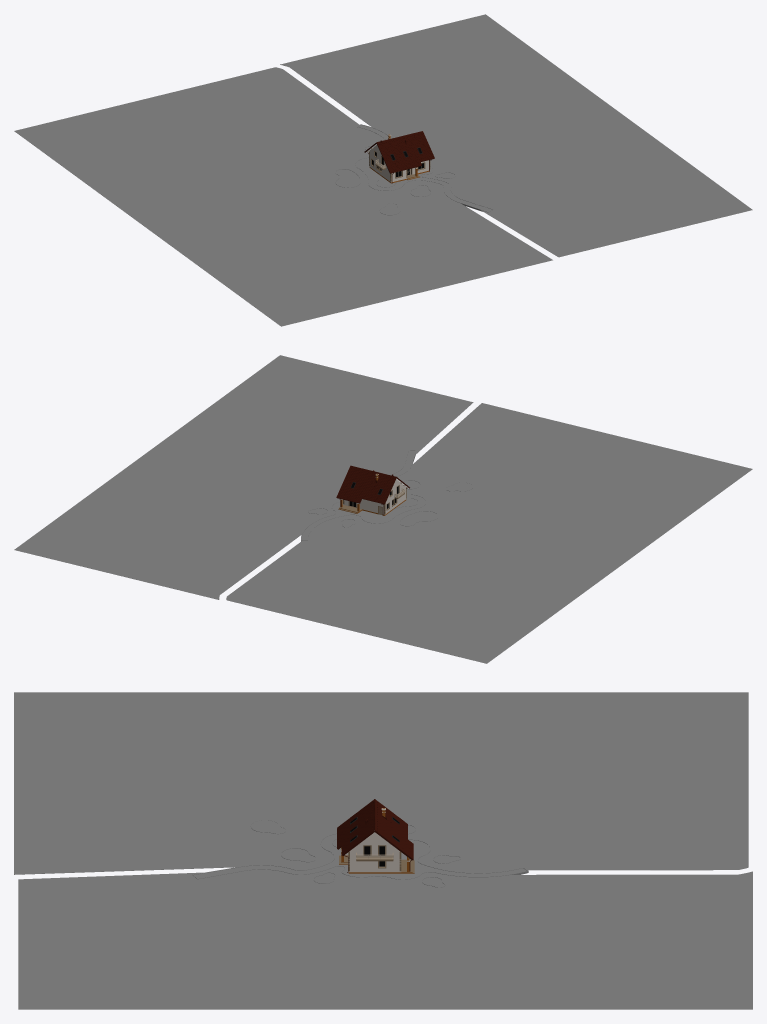
The model's file is model_dom_2.FBX.
The picture shows the model from 3 angles, top to bottom: view 1: azimuth 30°, elevation 25°; view 2: azimuth 150°, elevation 25°; view 3: azimuth 270°, elevation 25°; orthographic projection. The views are drawn at different scales.
Parts seen in each view (by area): view 1: 32 011, 8 003, 20 001, Object059, 31 011; view 2: 32 011, 8 003, 20 001, Object059, 31 011, 4 003; view 3: 32 011, 8 003, 20 001, 31 011, Object059, 4 003.
Part boxes in pixels (x1,y1,x2,y2): 32 011: [14, 14, 752, 326]; 8 003: [364, 131, 434, 172]; 20 001: [355, 125, 491, 211]; Object059: [336, 147, 454, 214]; 31 011: [335, 124, 493, 215]; 32 011: [14, 355, 752, 663]; 8 003: [336, 465, 409, 503]; 20 001: [301, 450, 425, 540]; Object059: [308, 480, 472, 527]; 31 011: [301, 449, 473, 541]; 4 003: [343, 479, 406, 514]; 32 011: [14, 692, 752, 1009]; 8 003: [337, 799, 413, 859]; 20 001: [211, 834, 526, 879]; 31 011: [192, 820, 528, 887]; Object059: [251, 820, 460, 887]; 4 003: [341, 832, 401, 872].
Bounding box in the file's own units: 5218 × 381 × 5132.
